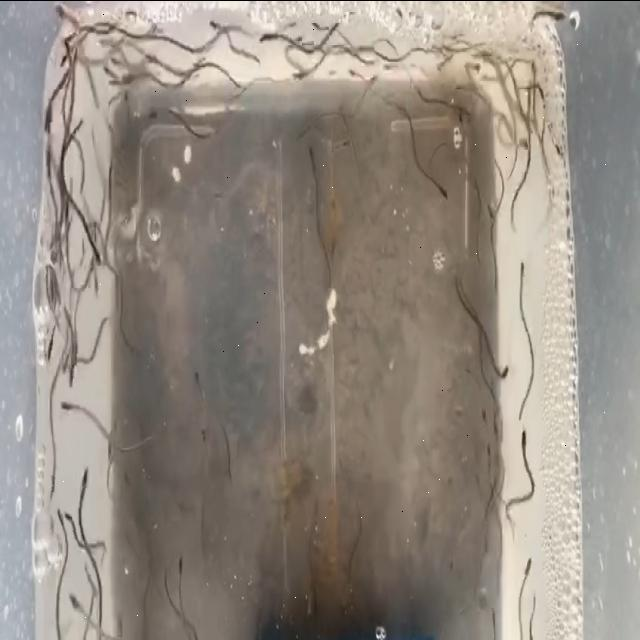inactive_glass_eel: (42, 92, 58, 138), (518, 536, 534, 582), (77, 451, 92, 499), (544, 0, 570, 26), (289, 62, 313, 90), (430, 174, 452, 204), (452, 102, 474, 132), (46, 464, 60, 510), (536, 76, 550, 122), (304, 130, 320, 168), (64, 584, 84, 614), (56, 27, 80, 50), (516, 250, 528, 296), (174, 549, 190, 583), (56, 394, 76, 421), (63, 501, 79, 532), (89, 239, 105, 270), (145, 101, 161, 131), (203, 10, 221, 36), (253, 32, 276, 52), (499, 349, 509, 394), (53, 504, 66, 538), (116, 68, 136, 90), (108, 36, 120, 72), (64, 356, 76, 390), (58, 44, 72, 72), (98, 56, 112, 82), (50, 4, 68, 24), (350, 43, 370, 61), (59, 342, 67, 386), (518, 134, 534, 156), (468, 56, 482, 80), (368, 68, 380, 96), (44, 150, 56, 178), (346, 59, 358, 86), (313, 10, 324, 38), (520, 417, 528, 452), (47, 335, 55, 369), (381, 56, 393, 78), (340, 137, 355, 152)
